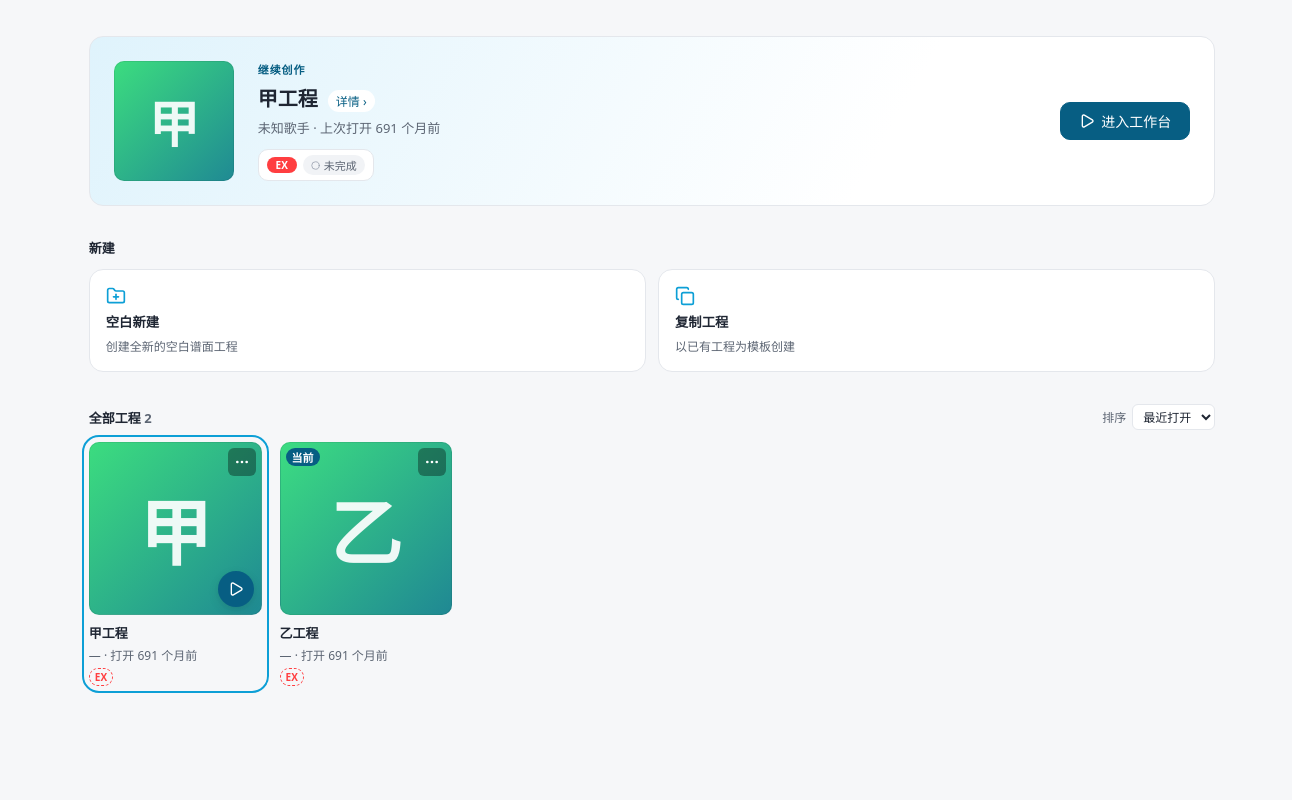
it: issue 23 #1 · 5 个跳工作台入口逐个仍在跳 › 左栏单击只切视图，**不**跳工作台（单击 ≠ 双击）
This screenshot has width=1292, height=800.
Click the element showing "甲 甲工程 — · 打开 691 个月前 EX": coordinates (175, 564) [89,442,262,686]
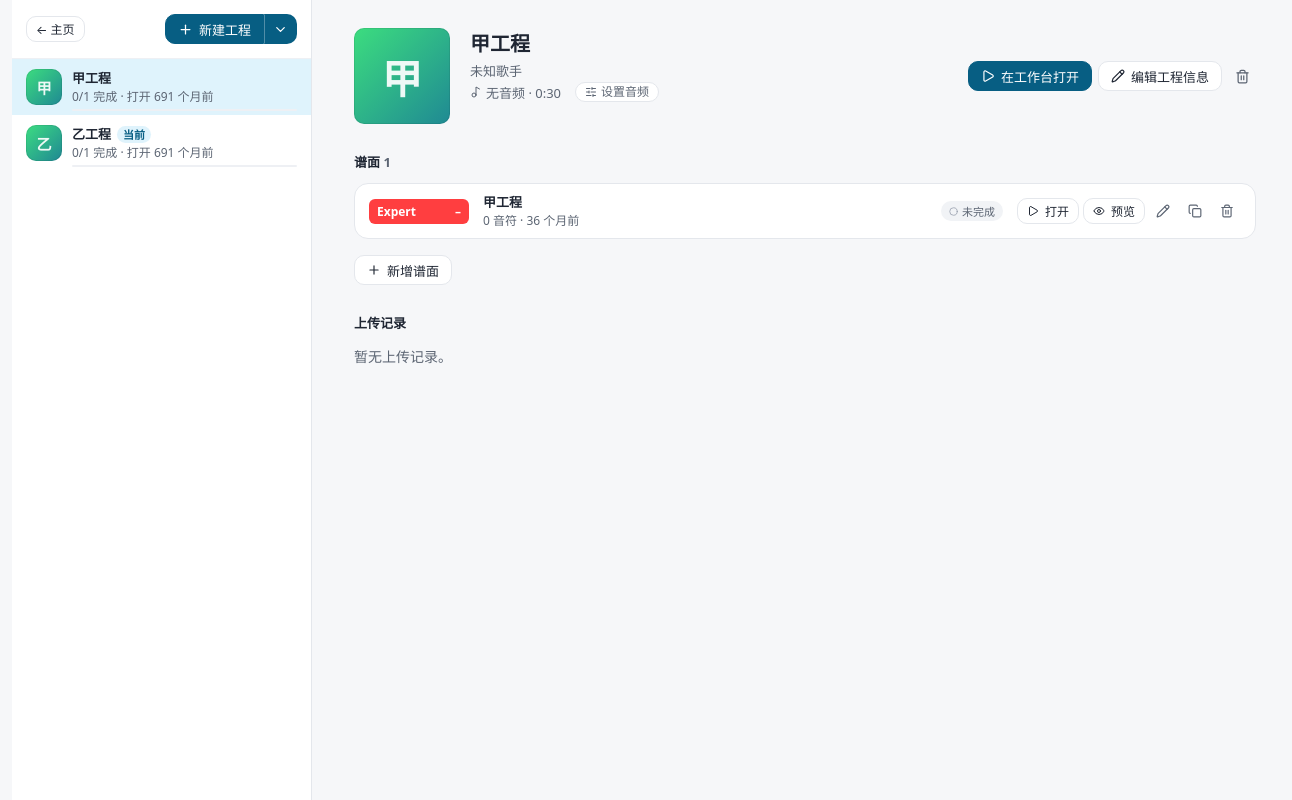
Expected: the heading "甲工程" is shown, [470,30,530,57]
Click the 2nd button with class "pc-item": coordinates (162, 143) [12,115,311,171]
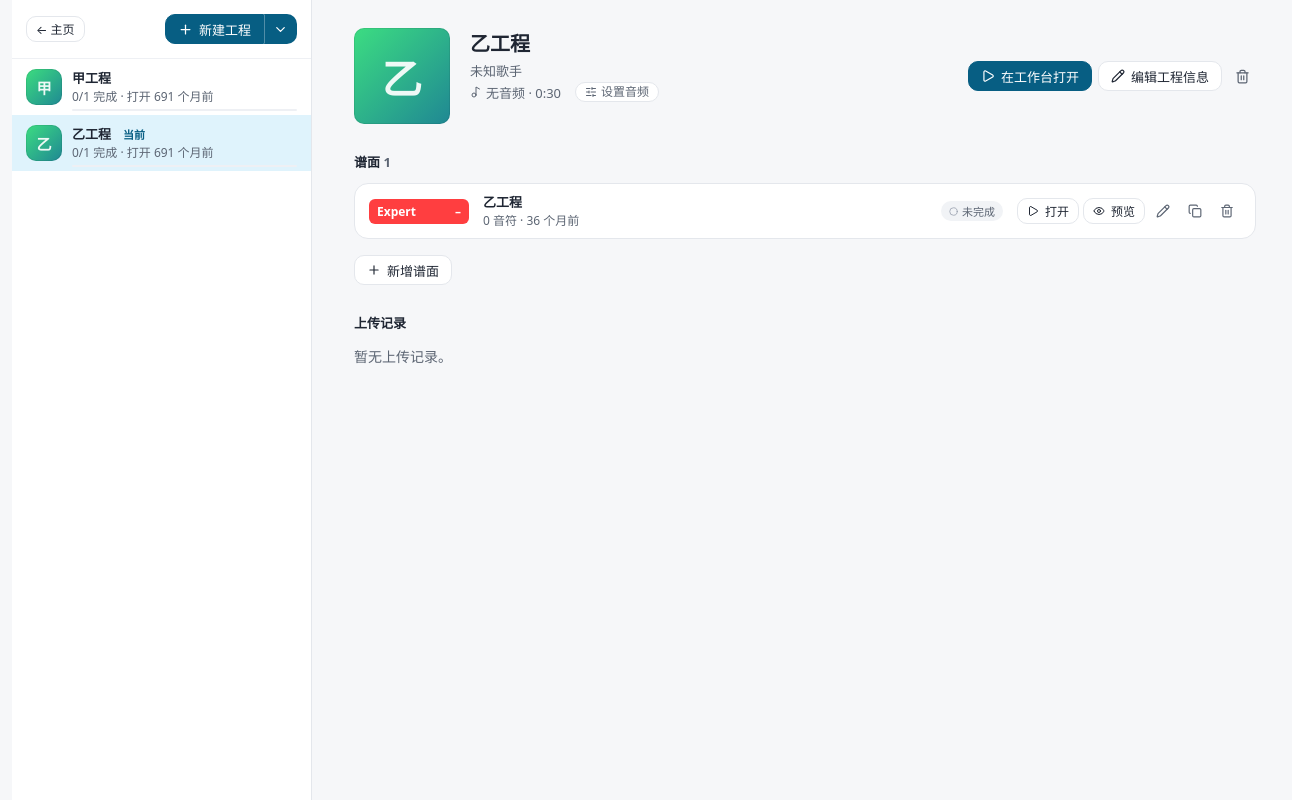
Expected: the heading "乙工程" is shown, [470,30,530,57]
